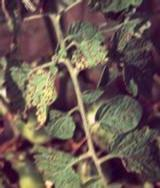Tomato Septoria leaf spot: (57, 14, 113, 74), (101, 20, 160, 71), (20, 65, 59, 127), (89, 95, 145, 136), (31, 146, 83, 188), (37, 109, 79, 143)
